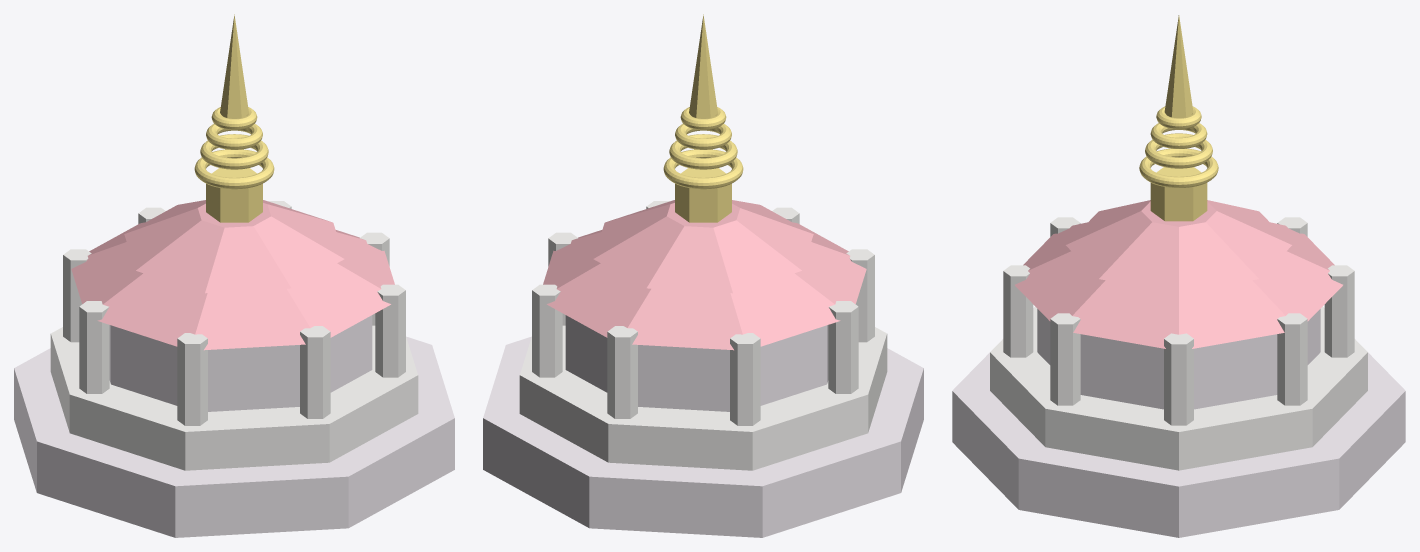
File: wat_arun.glb
The picture shows the model from 3 angles, left to right: view 1: azimuth 30°, elevation 25°; view 2: azimuth 150°, elevation 25°; view 3: azimuth 270°, elevation 25°; orthographic projection.
Parts seen in each view (by area): view 1: Temple_Base, Temple_Step1, Temple_Roof1, Temple_Roof2, Temple_Body, Temple_Col_5, Temple_Col_6, Temple_Col_4, Temple_Col_7, Temple_SpireBase, Temple_Spire, Temple_Col_3 (+4 smaller); view 2: Temple_Base, Temple_Step1, Temple_Roof1, Temple_Roof2, Temple_Body, Temple_Col_3, Temple_Col_2, Temple_Col_4, Temple_Col_1, Temple_SpireBase, Temple_Spire, Temple_Col_5 (+4 smaller); view 3: Temple_Base, Temple_Step1, Temple_Roof1, Temple_Roof2, Temple_Body, Temple_Col_1, Temple_Col_7, Temple_Col_0, Temple_Col_2, Temple_Col_6, Temple_SpireBase, Temple_Spire (+4 smaller).
Boxes of the visible parts, x1=… form: Temple_Base: x1=14, y1=336, x2=454, y2=537; Temple_Step1: x1=50, y1=325, x2=418, y2=470; Temple_Roof1: x1=71, y1=222, x2=394, y2=350; Temple_Roof2: x1=124, y1=200, x2=344, y2=293; Temple_Body: x1=109, y1=315, x2=372, y2=411; Temple_Col_5: x1=177, y1=333, x2=207, y2=425; Temple_Col_6: x1=300, y1=326, x2=330, y2=418; Temple_Col_4: x1=79, y1=301, x2=109, y2=393; Temple_Col_7: x1=375, y1=284, x2=405, y2=377; Temple_SpireBase: x1=206, y1=168, x2=262, y2=222; Temple_Spire: x1=220, y1=14, x2=248, y2=118; Temple_Col_3: x1=63, y1=249, x2=91, y2=342; Temple_Base: x1=483, y1=336, x2=923, y2=537; Temple_Step1: x1=519, y1=325, x2=887, y2=470; Temple_Roof1: x1=543, y1=222, x2=866, y2=350; Temple_Roof2: x1=593, y1=200, x2=813, y2=293; Temple_Body: x1=565, y1=315, x2=828, y2=411; Temple_Col_3: x1=730, y1=333, x2=760, y2=425; Temple_Col_2: x1=607, y1=326, x2=637, y2=418; Temple_Col_4: x1=828, y1=301, x2=858, y2=393; Temple_Col_1: x1=532, y1=284, x2=562, y2=377; Temple_SpireBase: x1=675, y1=168, x2=731, y2=222; Temple_Spire: x1=689, y1=14, x2=717, y2=118; Temple_Col_5: x1=846, y1=249, x2=874, y2=342; Temple_Base: x1=952, y1=339, x2=1405, y2=537; Temple_Step1: x1=990, y1=306, x2=1367, y2=470; Temple_Roof1: x1=1015, y1=222, x2=1342, y2=348; Temple_Roof2: x1=1066, y1=200, x2=1291, y2=292; Temple_Body: x1=1037, y1=309, x2=1320, y2=409; Temple_Col_1: x1=1277, y1=313, x2=1307, y2=405; Temple_Col_7: x1=1050, y1=313, x2=1080, y2=405; Temple_Col_0: x1=1164, y1=333, x2=1193, y2=425; Temple_Col_2: x1=1324, y1=265, x2=1354, y2=357; Temple_Col_6: x1=1003, y1=265, x2=1033, y2=357; Temple_SpireBase: x1=1150, y1=167, x2=1207, y2=221; Temple_Spire: x1=1164, y1=15, x2=1193, y2=118.
Bounding box in the file's own units: 2.4 × 2.5 × 2.4.
